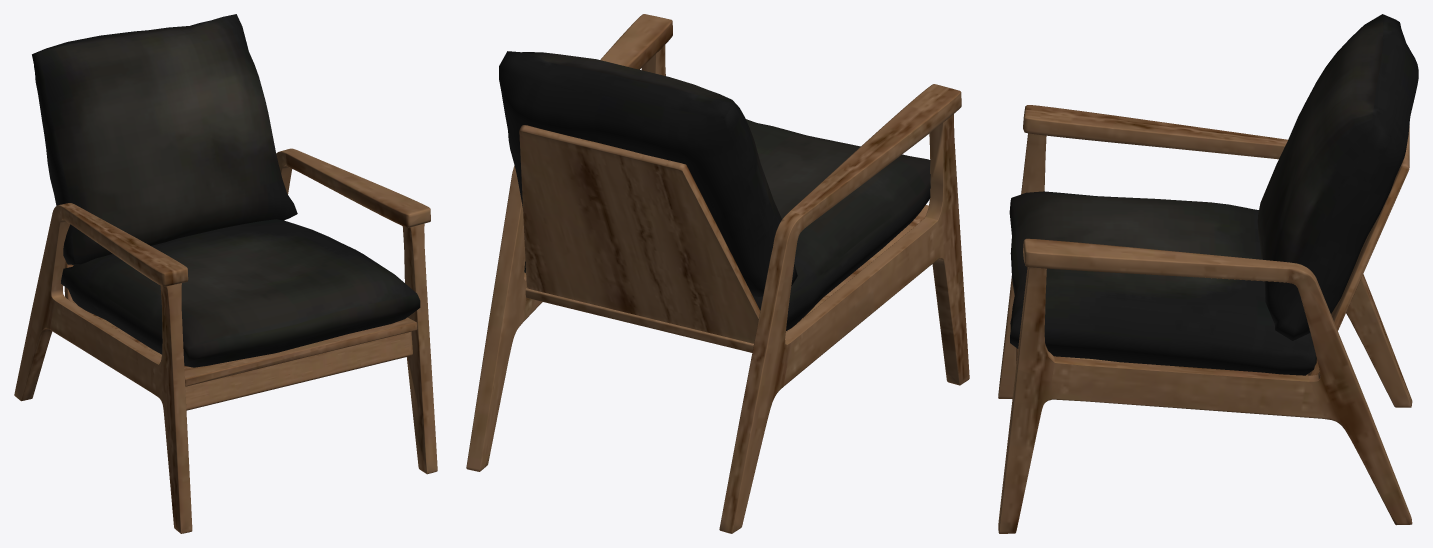
Rendered from modern_arm_chair_01.glb.
The picture shows the model from 3 angles, left to right: view 1: azimuth 30°, elevation 25°; view 2: azimuth 150°, elevation 25°; view 3: azimuth 270°, elevation 25°; orthographic projection. The views are drawn at different scales.
Parts seen in each view (by area): view 1: modern_arm_chair_01; view 2: modern_arm_chair_01; view 3: modern_arm_chair_01.
Boxes of the visible parts, x1=… form: modern_arm_chair_01: x1=14, y1=14, x2=437, y2=533; modern_arm_chair_01: x1=466, y1=14, x2=969, y2=533; modern_arm_chair_01: x1=998, y1=14, x2=1418, y2=533.
Size of the model in its own units: 0.8203 by 1.02 by 0.9865.
2 materials, 2 textured.
